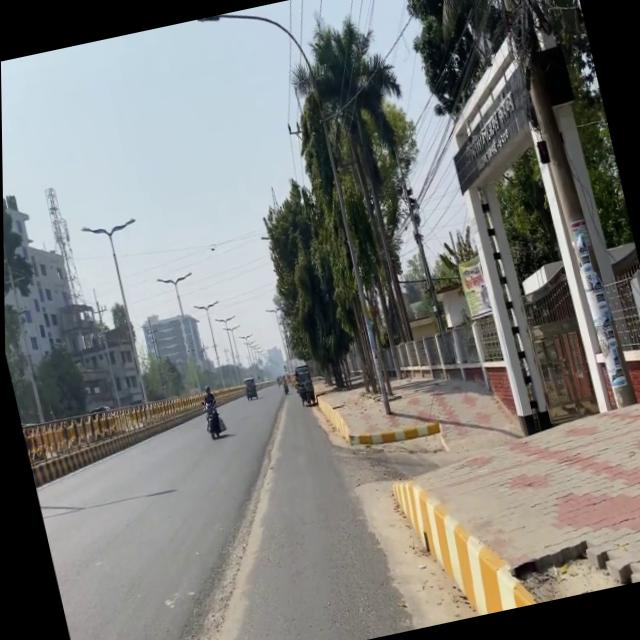Construction-barrier: (386, 456, 535, 626), (311, 368, 447, 474), (345, 415, 440, 451), (313, 388, 350, 448)
Fallen-tree: (280, 380, 288, 394)
Garbage-bin: (195, 383, 222, 436)
Pole: (19, 369, 210, 493)
Pothole: (361, 302, 640, 627)
Traffic-cone: (290, 362, 316, 408), (240, 376, 257, 400)
